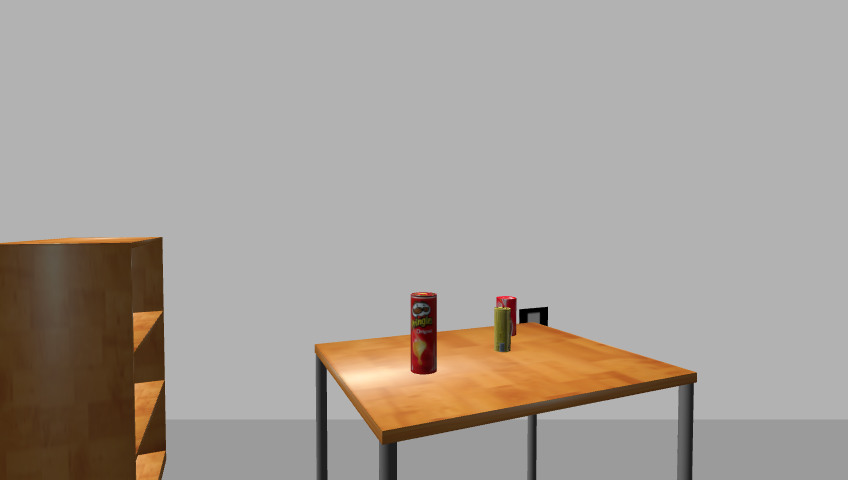aruco marker: (518, 305, 552, 330)
biscuits pack: (493, 307, 511, 353)
bookshelf: (0, 235, 171, 479)
coke can: (494, 295, 518, 340)
dinner table: (305, 320, 705, 480)
pringles can: (408, 291, 440, 376)
